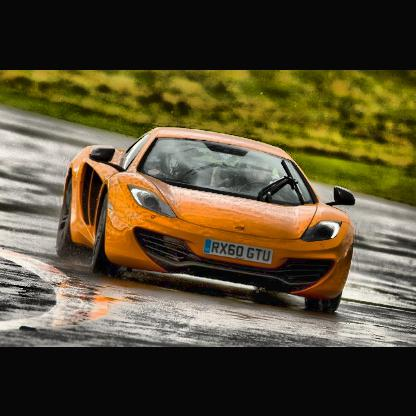McLaren MP4-12C Coupe 2012: (56, 125, 358, 318)
